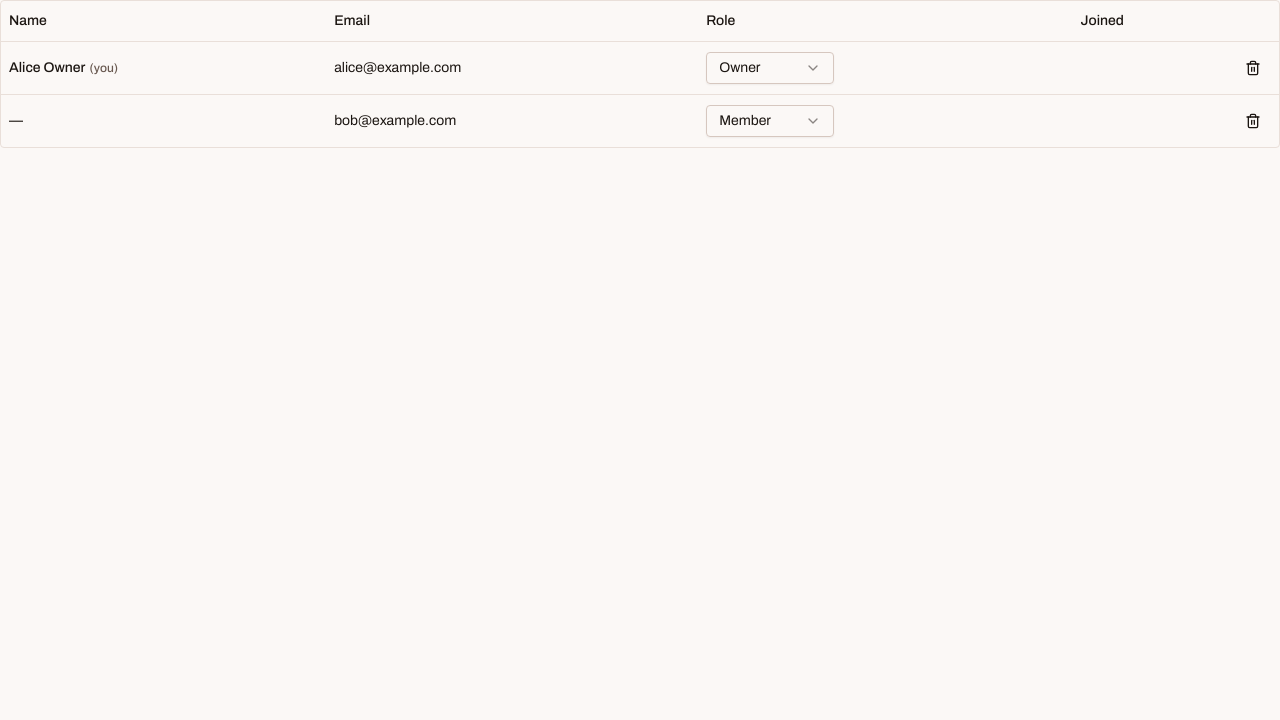
Test: MembersTable › asks for confirmation before removing, and removes nothing on cancel
Click the button named "Remove bob@example.com" at (1253, 120), box [1235, 102, 1271, 138]
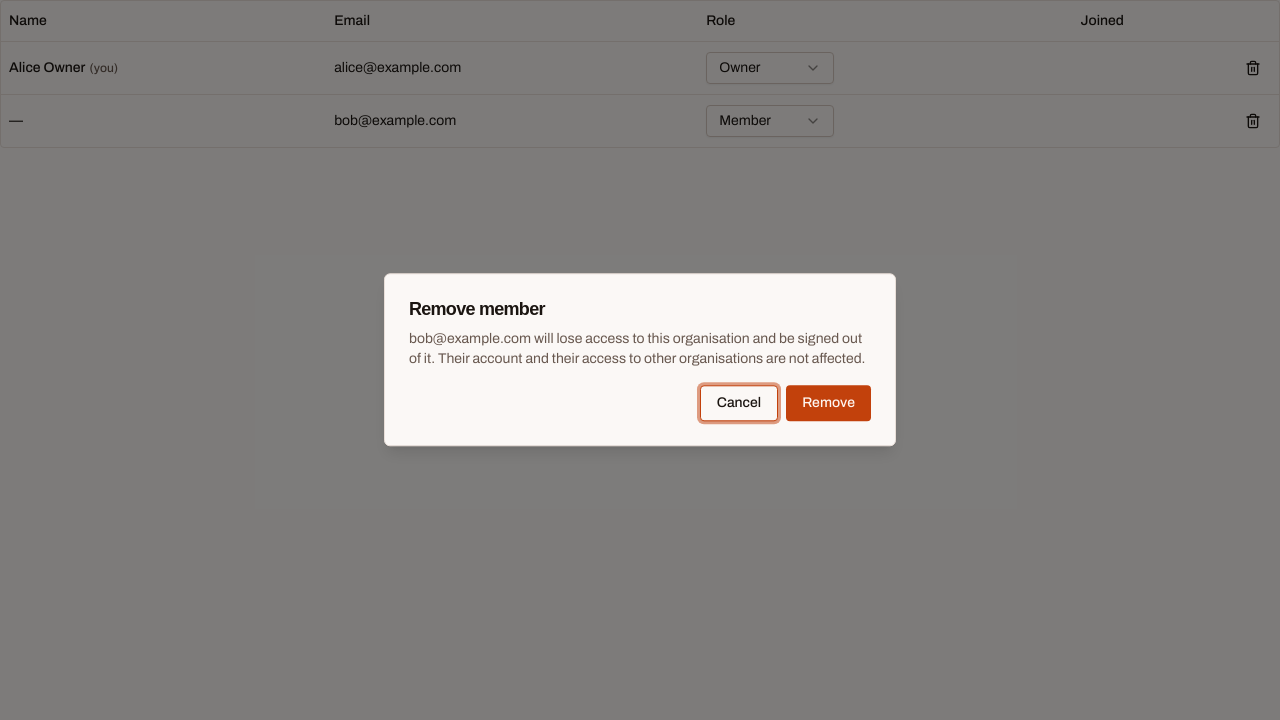
Now the text "bob@example.com will lose access" is shown, box [409, 332, 866, 367]
Click the button "Cancel" at (739, 404), box [700, 386, 778, 422]
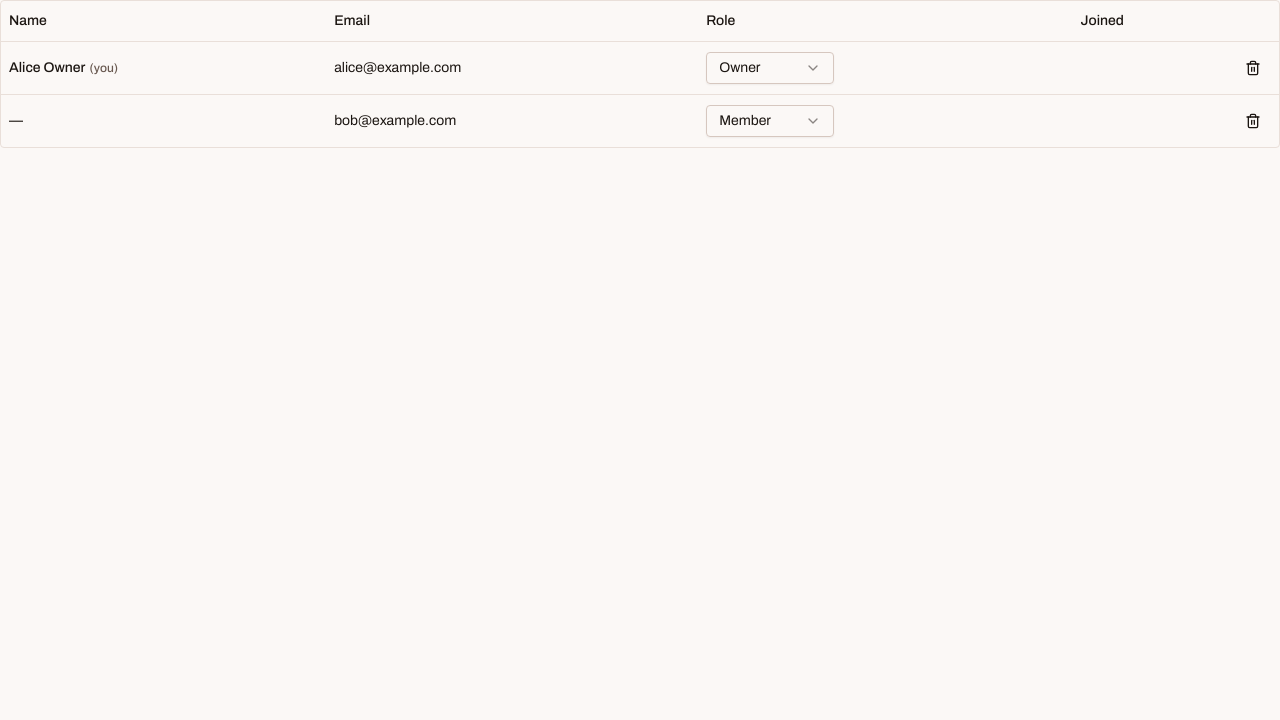
Now the dialog is gone
